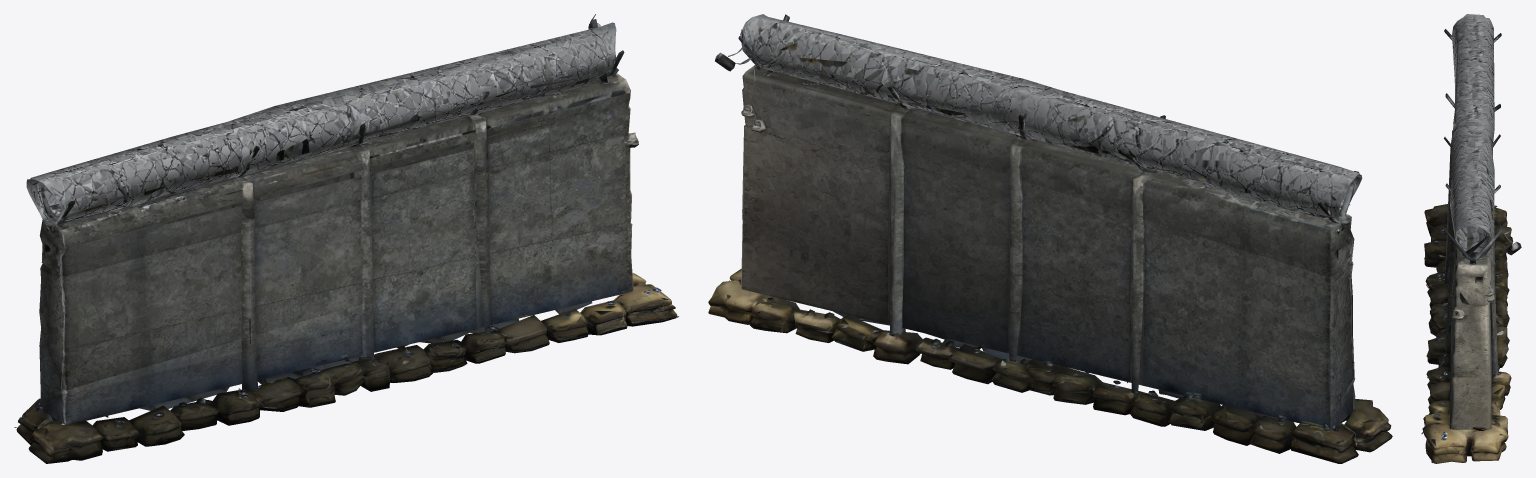
The model's file is site-cordon-wall.glb.
3 views of the same model, side by side, from view 1: azimuth 30°, elevation 25°; view 2: azimuth 150°, elevation 25°; view 3: azimuth 270°, elevation 25° (orthographic). The views are drawn at different scales.
Visible parts, largest first — view 1: site-cordon-wall; view 2: site-cordon-wall; view 3: site-cordon-wall.
Part boxes in pixels (x1,y1,x2,y2): site-cordon-wall: (14,14,678,463); site-cordon-wall: (708,14,1392,463); site-cordon-wall: (1421,14,1521,463).
Size of the model in its own units: 0.9995 by 0.4341 by 0.1743.
1 material, 1 textured.
